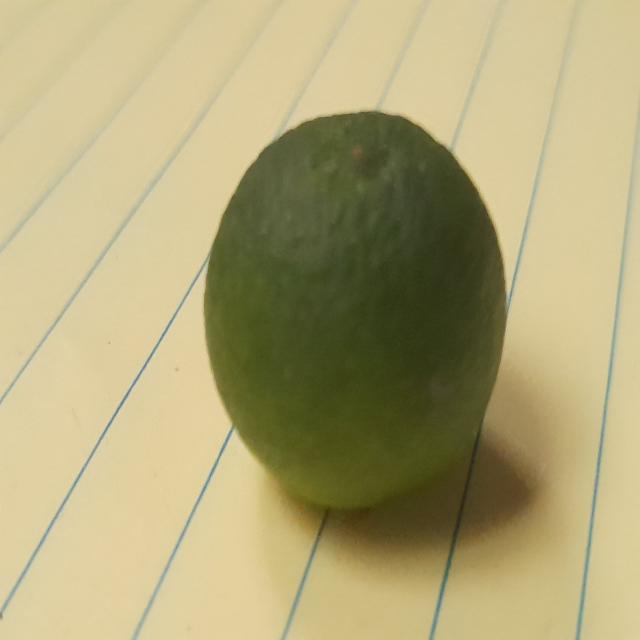heathy: (202, 101, 509, 506)
